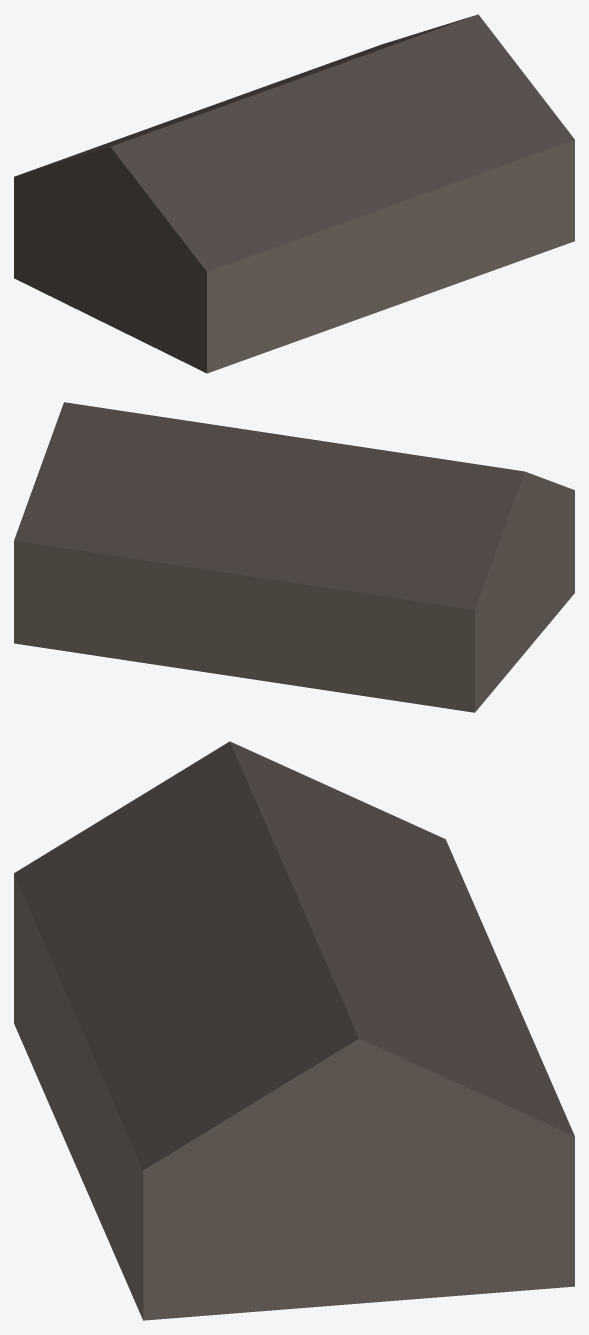
3 renders of one model, top to bottom at view 1: azimuth 30°, elevation 25°; view 2: azimuth 150°, elevation 25°; view 3: azimuth 270°, elevation 25°, orthographic. The views are drawn at different scales.
Parts seen in each view (by area): view 1: HP-w858807455; view 2: HP-w858807455; view 3: HP-w858807455.
Part boxes in pixels (left/top/right/bottom): HP-w858807455: left=14, top=14, right=574, bottom=373; HP-w858807455: left=14, top=402, right=574, bottom=712; HP-w858807455: left=14, top=741, right=574, bottom=1320.
Bounding box in the file's own units: 14.19 × 5.3 × 10.16.
